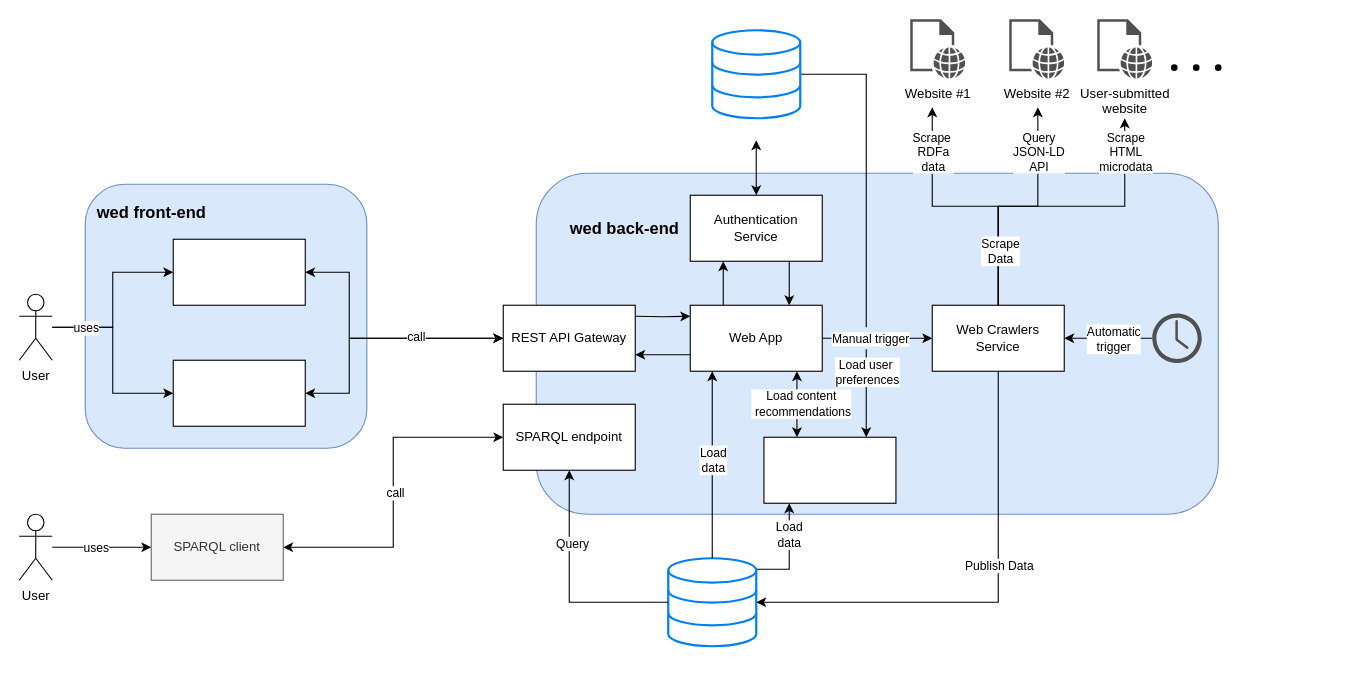
Image size: 1348x688. Some labels were removed from this diagram. Here are the shapes that lost their labels. From the top down, the centre of each, then its label:
At [756,74]: "Users Storage (NoSQL)".
At [238,271]: "Website".
At [1176,337]: "Cron job".
At [238,392]: "Mobile App".
At [829,469]: "Recommendations Service".
At [712,602]: "Content Storage (NoSQL/graph DB)".
